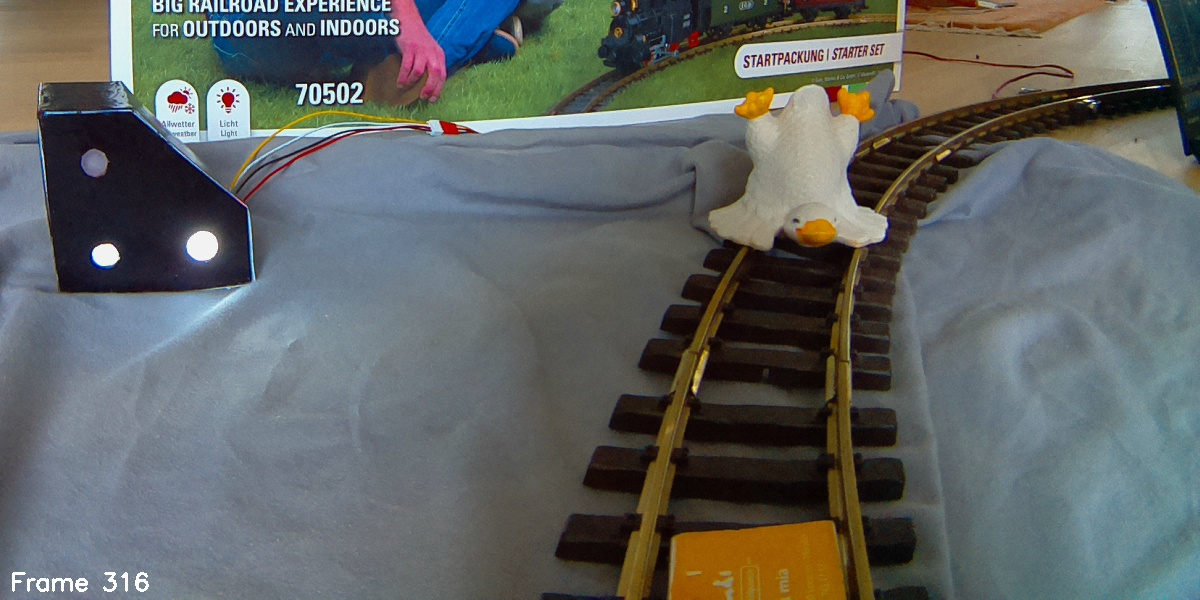Ente: (704, 82, 892, 259)
Halt: (39, 80, 252, 300)
